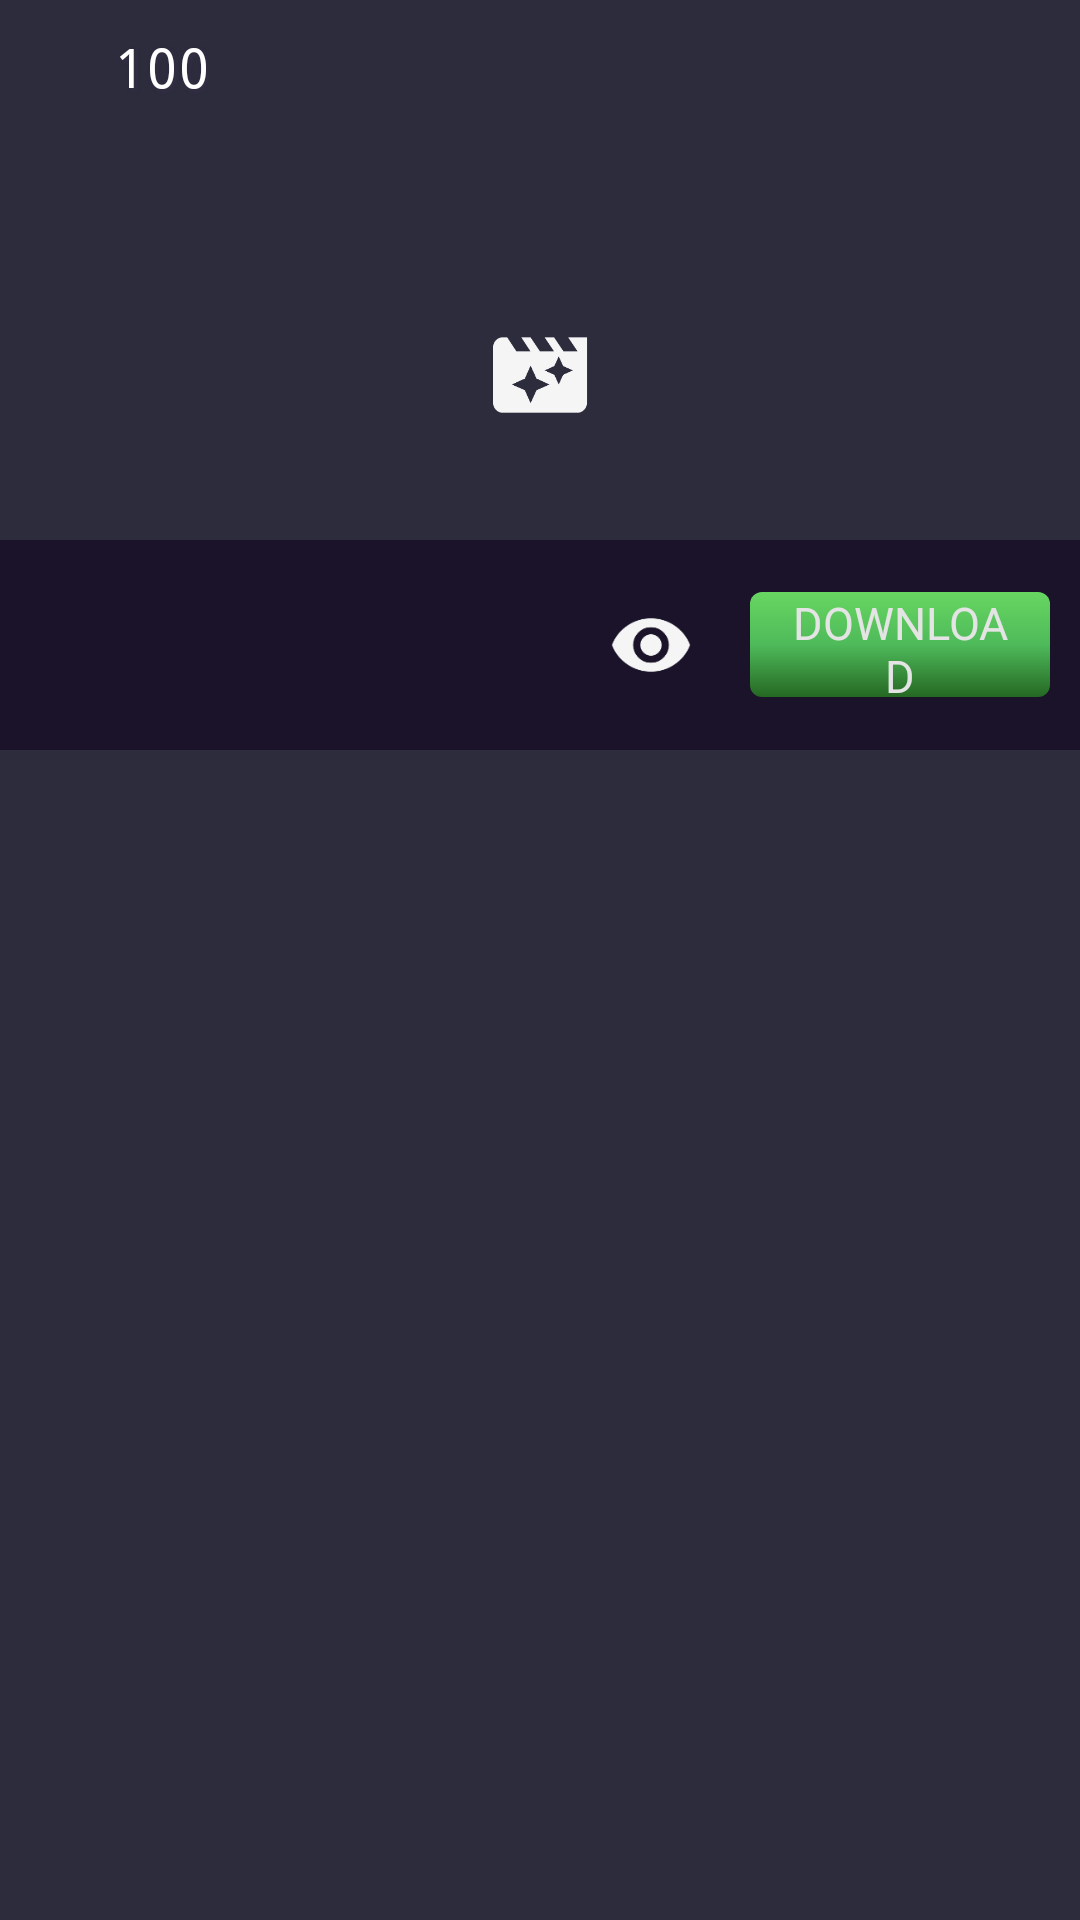

Screen size 1080 × 1920. Icon name, then its center in pixels as [x,y]:
eye: [651,645]
movie filter: [540,375]
